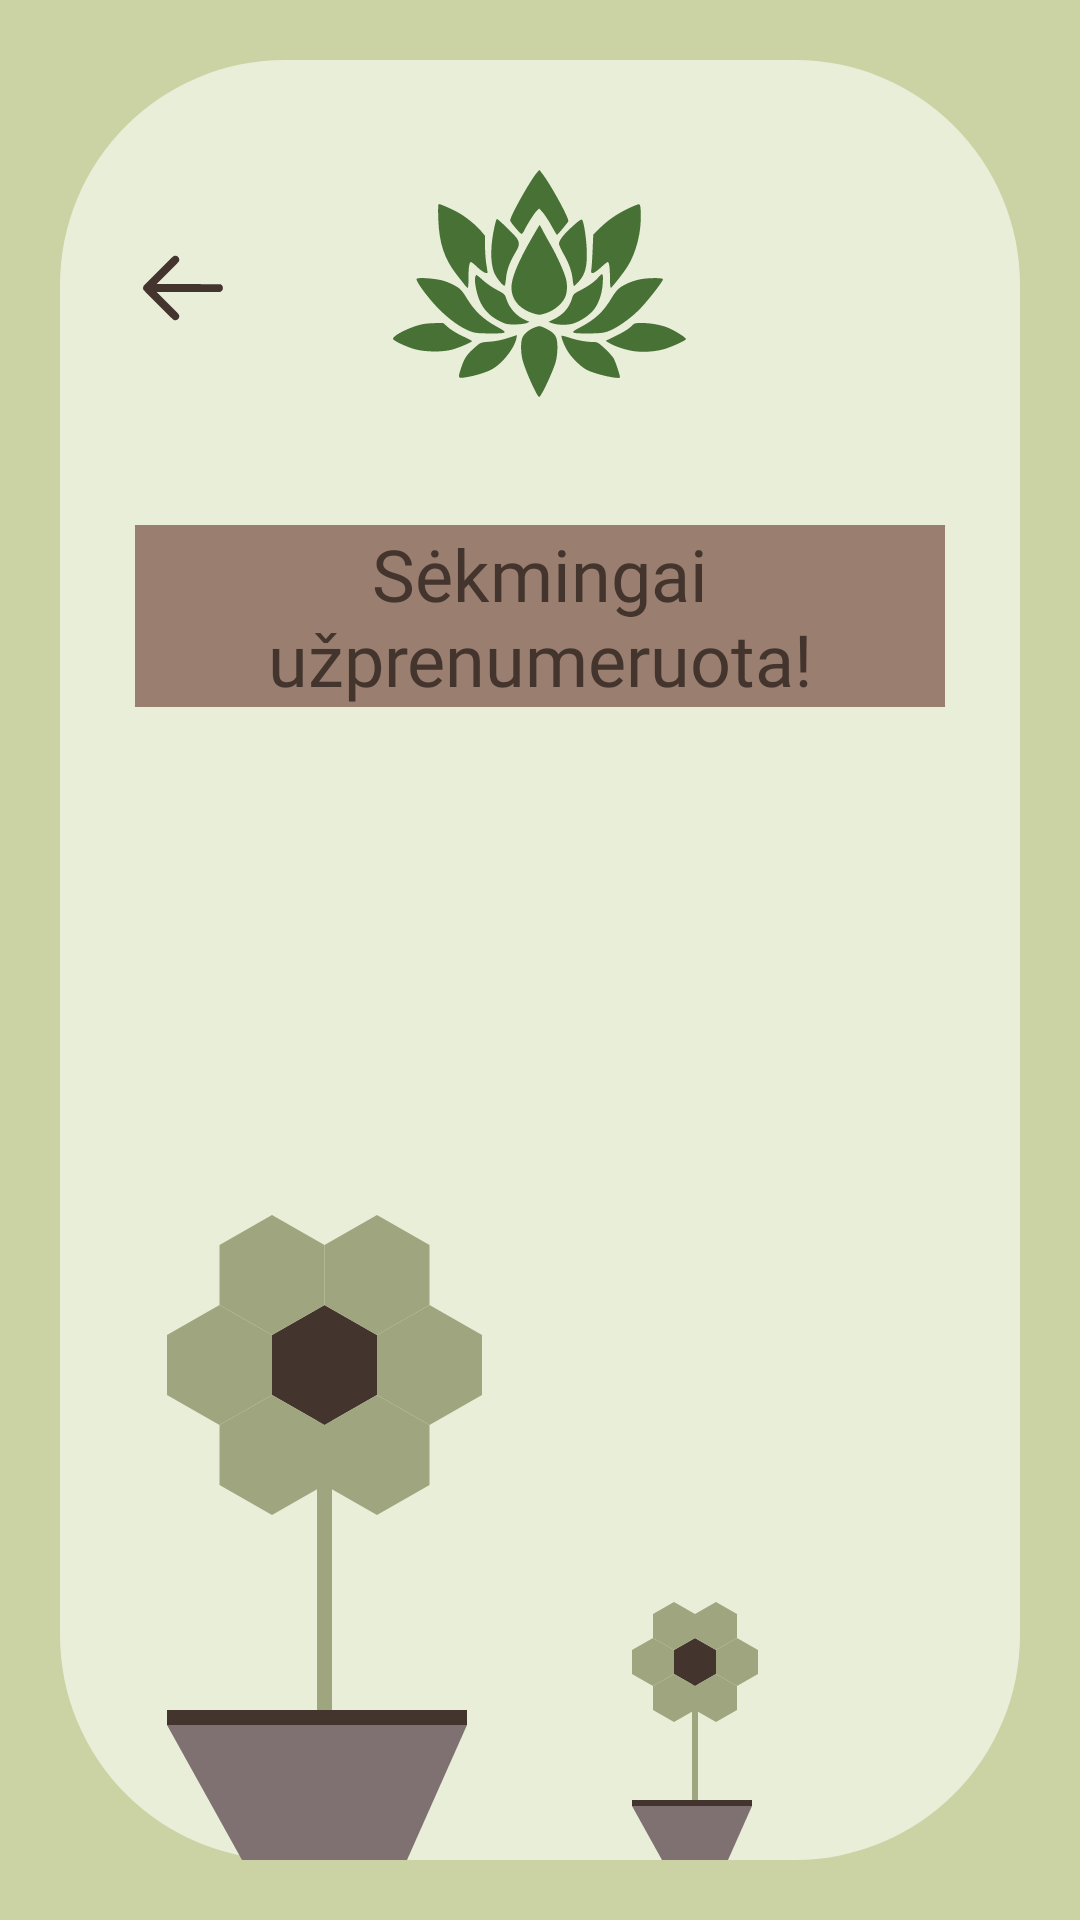

Point at icon controls on the screen. Image size 1080px×1920px, points as [x,y].
Lotus icon: [539,283]
